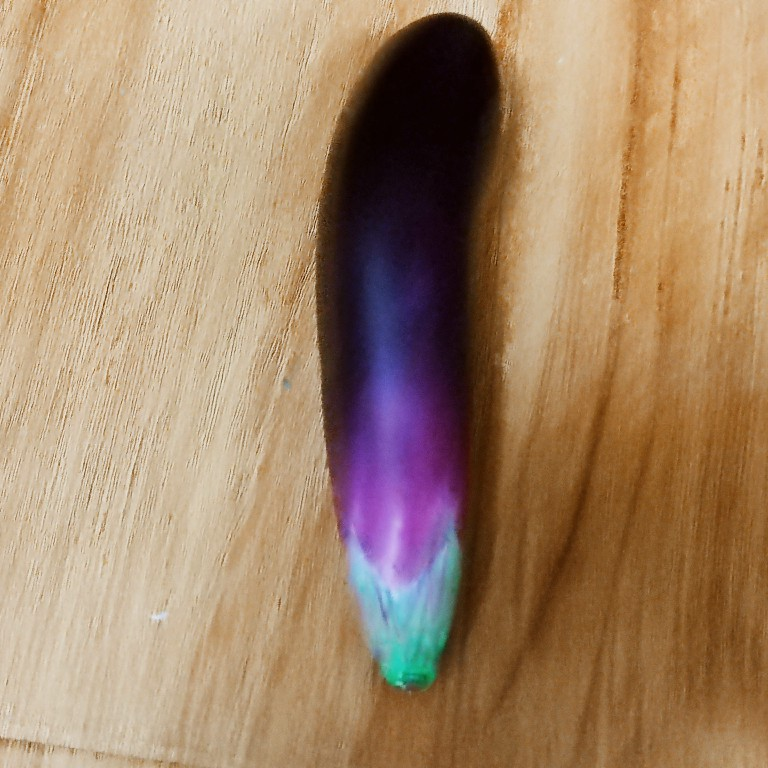fruit_eggplant: (310, 7, 512, 698)
